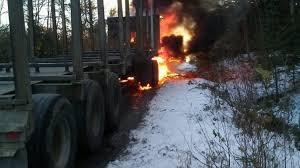fire: (152, 13, 193, 82)
